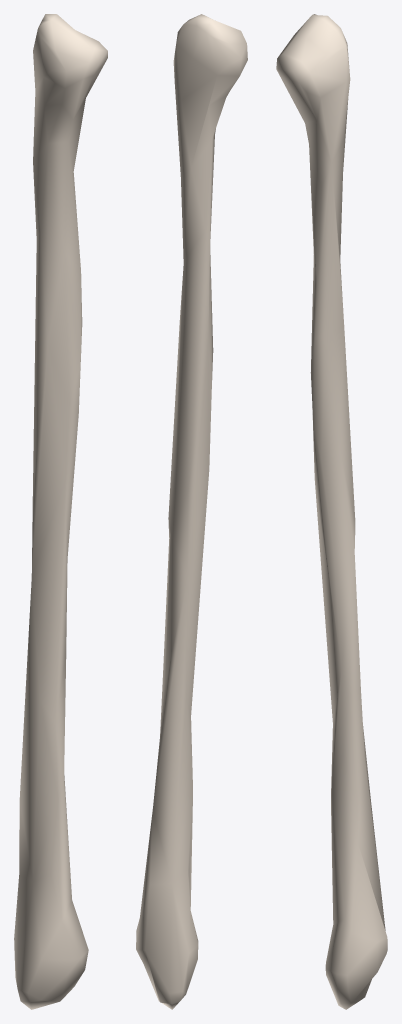
The model's file is right_fibula.glb.
The picture shows the model from 3 angles, left to right: view 1: azimuth 90°, elevation 25°; view 2: azimuth 150°, elevation 25°; view 3: azimuth 330°, elevation 25°; orthographic projection.
Visible parts, largest first — view 1: Fibula.r; view 2: Fibula.r; view 3: Fibula.r.
Boxes of the visible parts, x1,y1,x2,y2 form: Fibula.r: (14,14,107,1009); Fibula.r: (136,14,247,1009); Fibula.r: (276,14,387,1009).
Bounding box in the file's own units: 0.0329 × 0.3637 × 0.0308.
